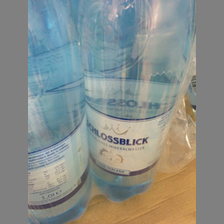water: (77, 1, 194, 201), (28, 1, 93, 224)
